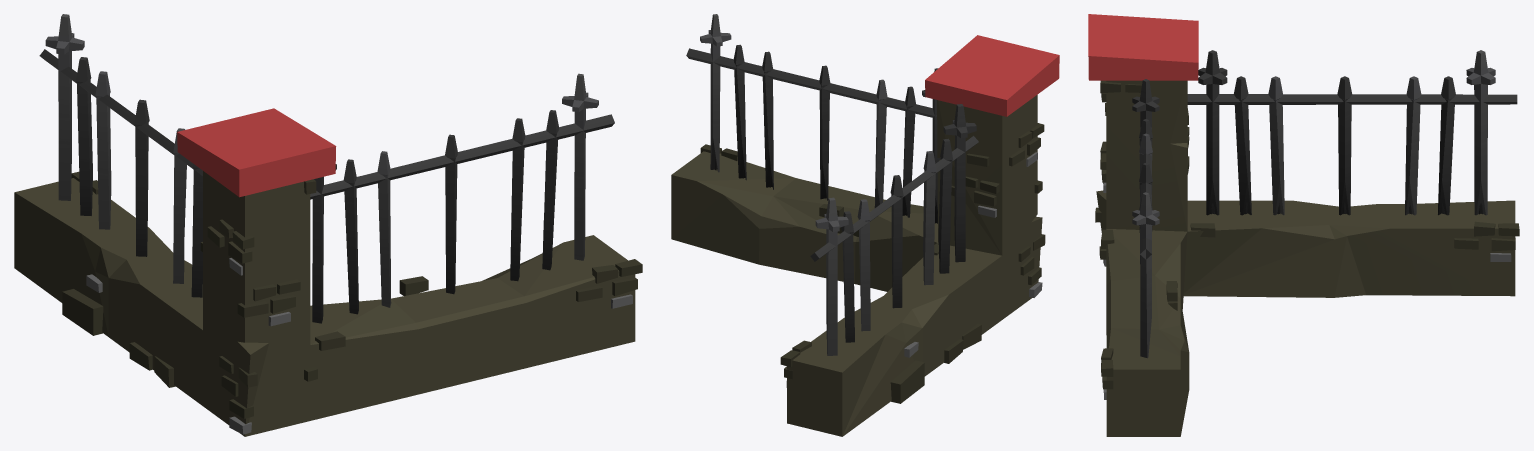
File: ea_arch_wall03_corner_01a_2_lev1.glb
3 renders of one model, left to right at view 1: azimuth 30°, elevation 25°; view 2: azimuth 150°, elevation 25°; view 3: azimuth 270°, elevation 25°, orthographic. The views are drawn at different scales.
Visible parts, largest first — view 1: ea_arch_wall03_corner_01a_2_lev1; view 2: ea_arch_wall03_corner_01a_2_lev1; view 3: ea_arch_wall03_corner_01a_2_lev1.
Boxes of the visible parts, x1,y1,x2,y2 form: ea_arch_wall03_corner_01a_2_lev1: [14, 14, 642, 436]; ea_arch_wall03_corner_01a_2_lev1: [671, 14, 1059, 436]; ea_arch_wall03_corner_01a_2_lev1: [1088, 14, 1519, 436].
Bounding box in the file's own units: 4.51 × 2.94 × 4.63.
1 material, 1 textured.
